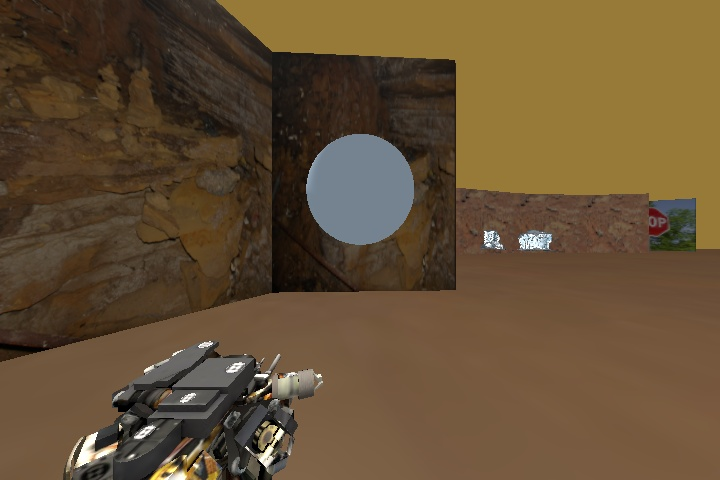minerals: (519, 229, 551, 251), (484, 230, 504, 252)
sign: (645, 206, 669, 238)
sphere: (305, 133, 415, 242)
